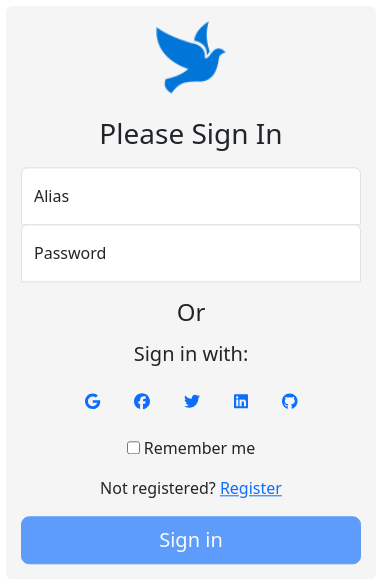
Scenario: Login Component › enables the sign in button if both alias and password fields have text
Step 1. Type "testtext" into the field labelled "Alias" → (191, 196), box [21, 167, 361, 225]
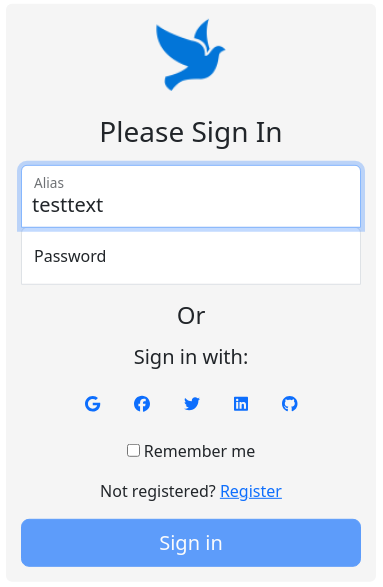
Step 2. Type "passwordtest" into the password field labelled "Password" → (191, 255), box [21, 226, 361, 284]
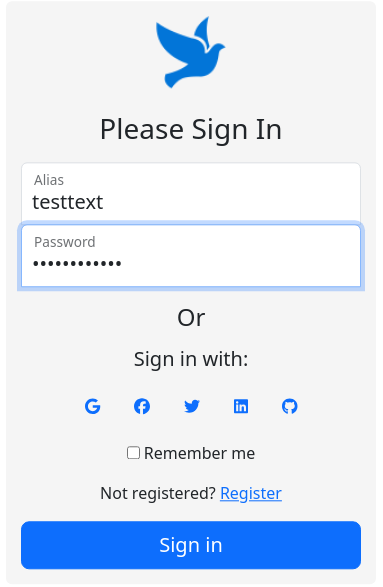
Check: the button "Sign in" is enabled, box [21, 522, 361, 570]
